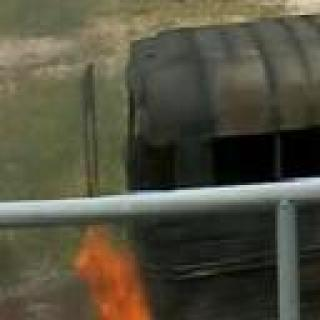fire: (70, 235, 145, 320)
